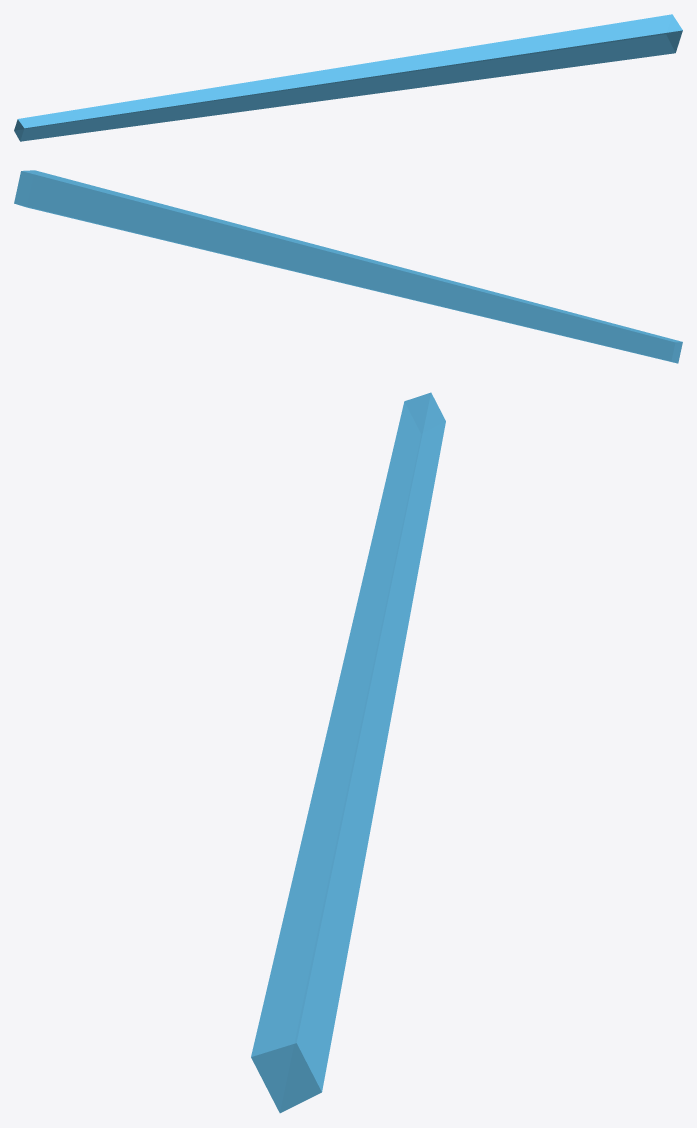
File: Event_420107950_HErechit_41.fbx
3 views of the same model, one above another, from view 1: azimuth 30°, elevation 25°; view 2: azimuth 150°, elevation 25°; view 3: azimuth 270°, elevation 25° (orthographic). The views are drawn at different scales.
Visible parts, largest first — view 1: Model; view 2: Model; view 3: Model.
Boxes of the visible parts, <box> form: Model: <box>14,14,682,141</box>; Model: <box>14,170,682,363</box>; Model: <box>251,392,445,1113</box>.
Bounding box in the file's own units: 7.23 × 0.644 × 0.9836.
